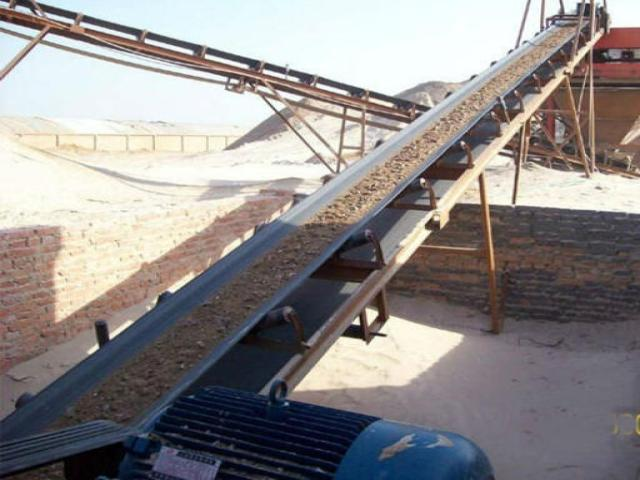conveyor: (0, 0, 612, 479)
